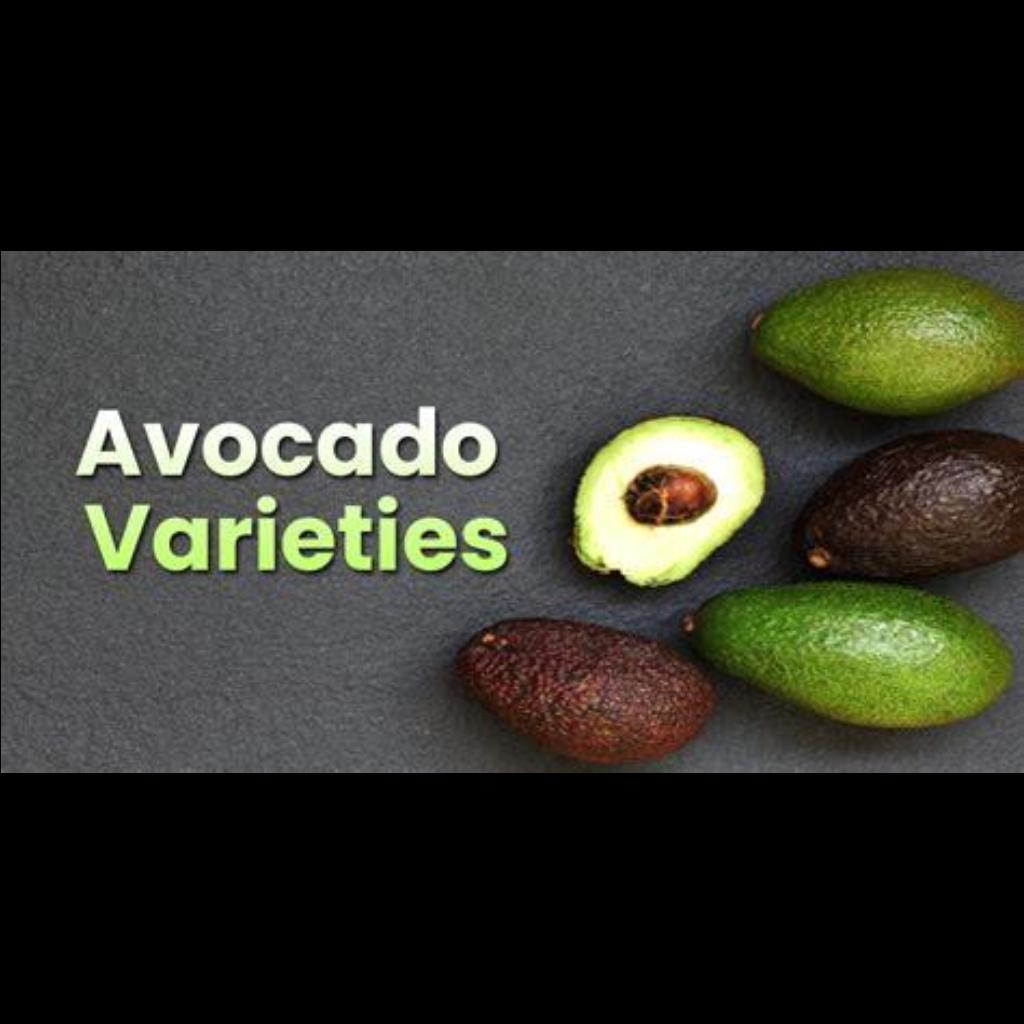Anthracnose: (407, 593, 701, 751), (774, 424, 1008, 572)
